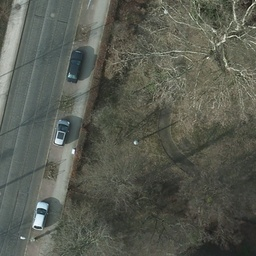car: (67, 47, 83, 82), (32, 201, 49, 232), (55, 117, 71, 147)
